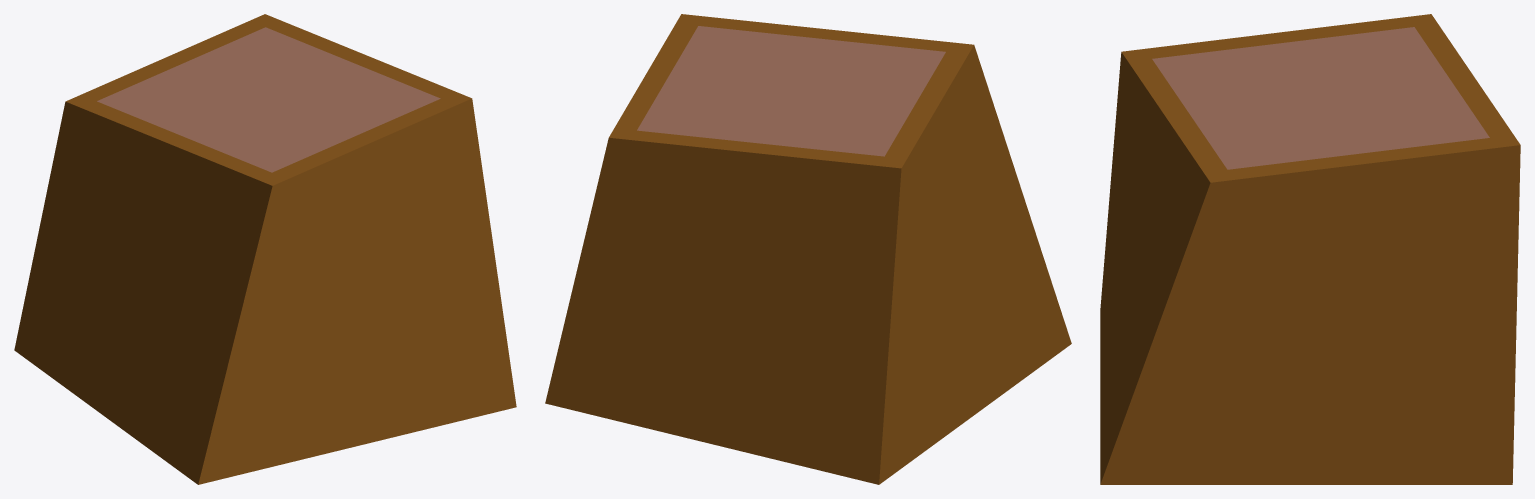
Rendered from stump_01.fbx.
The picture shows the model from 3 angles, left to right: view 1: azimuth 30°, elevation 25°; view 2: azimuth 150°, elevation 25°; view 3: azimuth 270°, elevation 25°; orthographic projection. The views are drawn at different scales.
Parts seen in each view (by area): view 1: stump_01; view 2: stump_01; view 3: stump_01.
Boxes of the visible parts, left/top/right/bottom form: stump_01: left=14, top=14, right=516, bottom=484; stump_01: left=545, top=14, right=1071, bottom=484; stump_01: left=1100, top=14, right=1520, bottom=484.
Bounding box in the file's own units: 0.6487 × 0.5212 × 0.6515.
